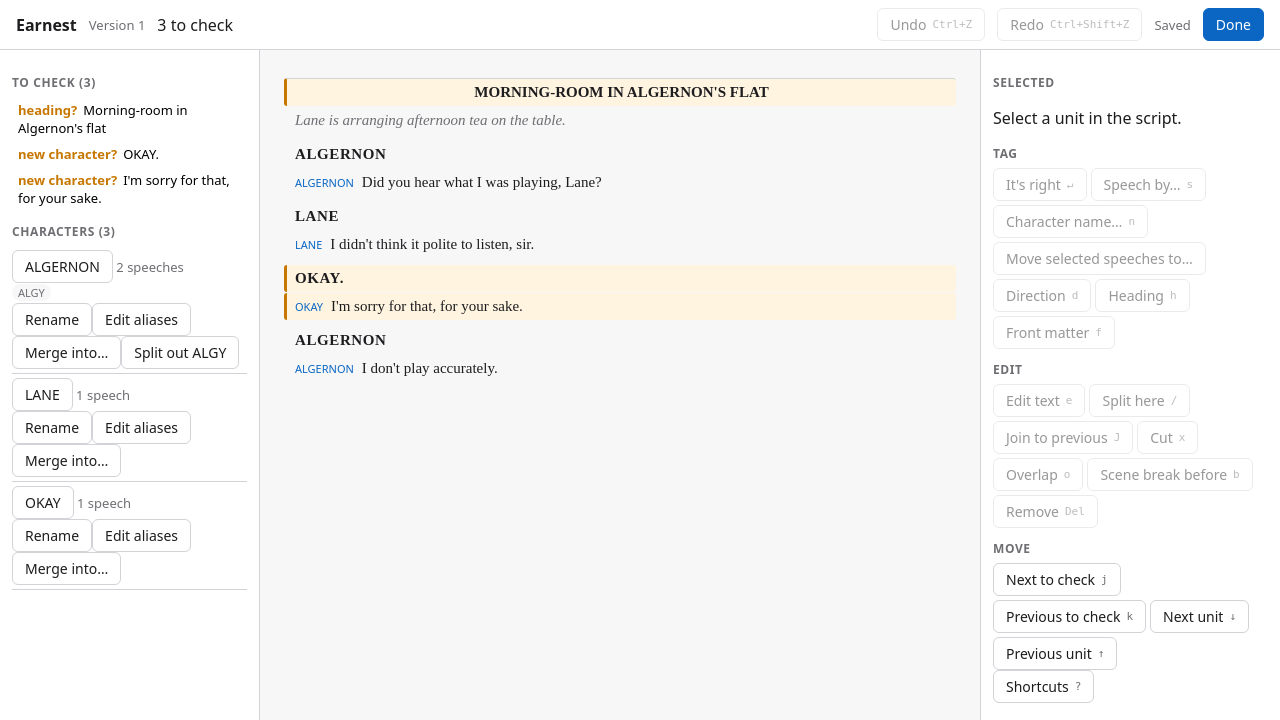
Test: Fix tags › runs a focused button once when Enter is pressed on it
The image size is (1280, 720).
(page scrolled)
Expected: the list named "Script" is shown, x1=284 y1=78 x2=956 y2=376
Type keys "j"
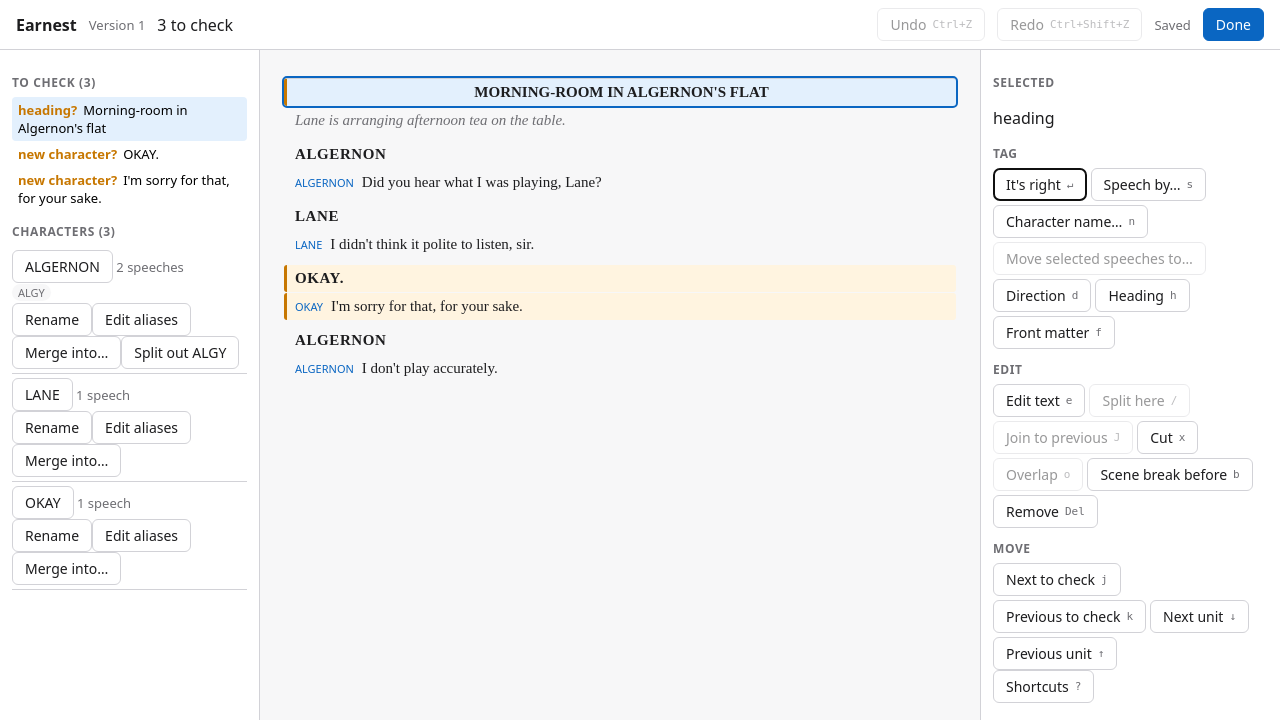
Press Enter
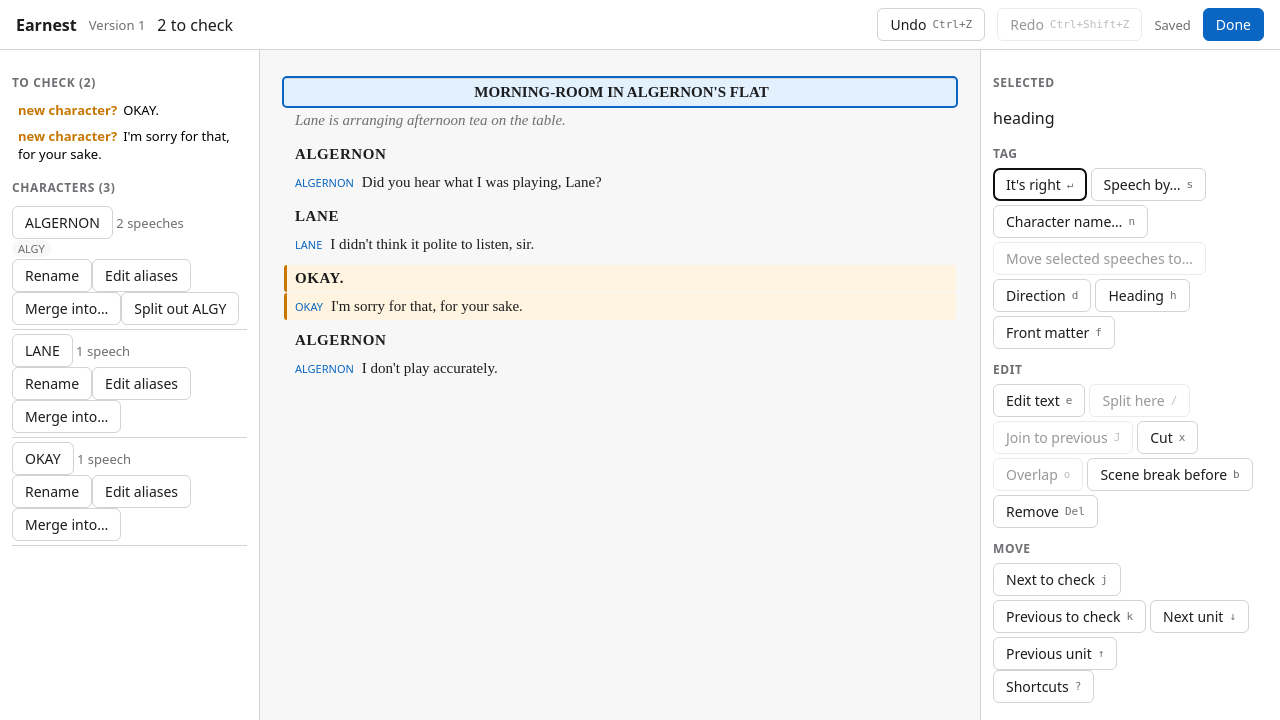
Now the heading "To check (2)" is shown, box x1=12 y1=74 x2=96 y2=91
Click the button "Undo Ctrl+Z": (931, 24) x1=878 y1=8 x2=985 y2=41
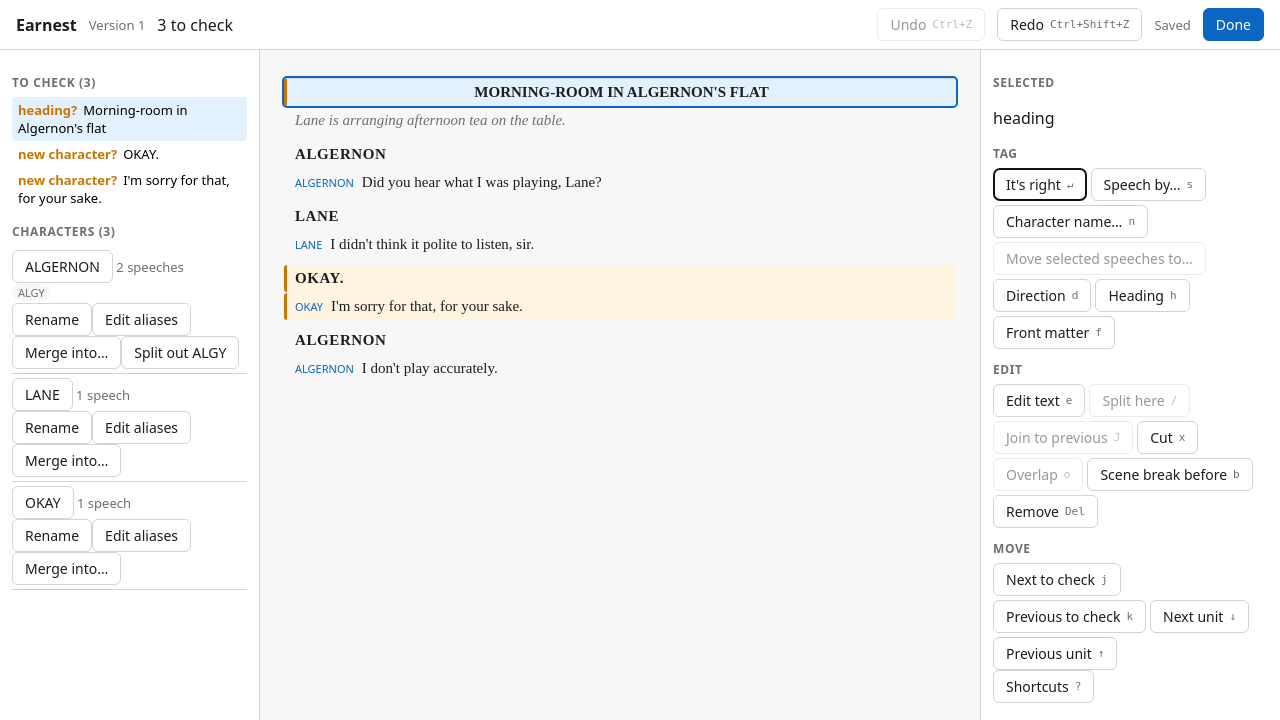
Now the heading "To check (3)" is shown, box x1=12 y1=74 x2=96 y2=91
Now the button "Undo Ctrl+Z" is disabled, box x1=878 y1=8 x2=985 y2=41
